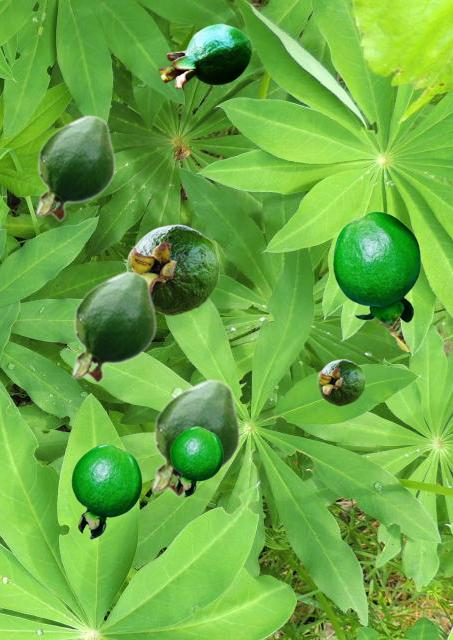guava: (151, 378, 239, 497), (332, 211, 420, 325), (71, 270, 155, 383), (126, 224, 219, 315), (35, 114, 114, 221), (71, 443, 141, 538), (158, 23, 251, 89), (170, 426, 222, 496), (317, 359, 364, 405)
